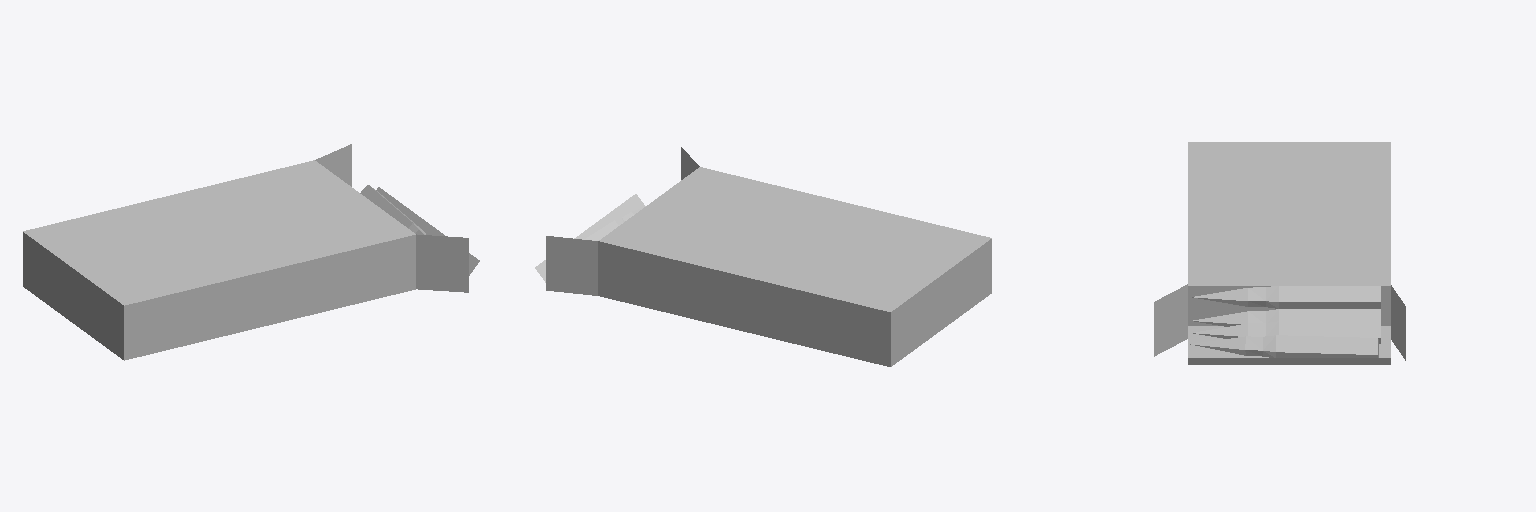
Rendered from RifleAmmo_240.obj.
3 renders of one model, left to right at view 1: azimuth 30°, elevation 25°; view 2: azimuth 150°, elevation 25°; view 3: azimuth 270°, elevation 25°, orthographic.
Visible parts, largest first — view 1: Rifle_Ammo; view 2: Rifle_Ammo; view 3: Rifle_Ammo.
Part boxes in pixels (x1,y1,x2,y2): Rifle_Ammo: (23, 144, 479, 360); Rifle_Ammo: (535, 147, 991, 366); Rifle_Ammo: (1154, 142, 1405, 364).
Size of the model in its own units: 2.21 by 0.3263 by 1.35.